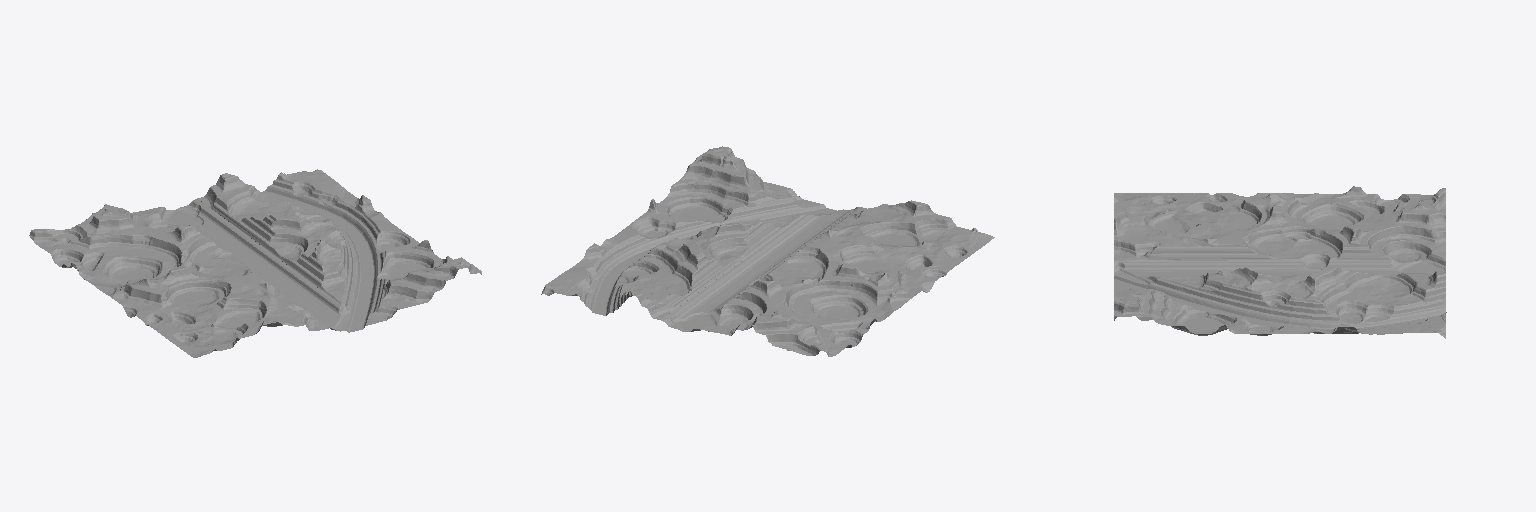
The picture shows the model from 3 angles: view 1: azimuth 30°, elevation 25°; view 2: azimuth 150°, elevation 25°; view 3: azimuth 270°, elevation 25°; orthographic projection.
Visible parts, largest first — view 1: O3_TerrainMesh.009; view 2: O3_TerrainMesh.009; view 3: O3_TerrainMesh.009.
Boxes of the visible parts, x1,y1,x2,y2 form: O3_TerrainMesh.009: [29, 169, 481, 357]; O3_TerrainMesh.009: [541, 146, 994, 356]; O3_TerrainMesh.009: [1114, 186, 1446, 338].
Size of the model in its own units: 1 by 0.1235 by 1.